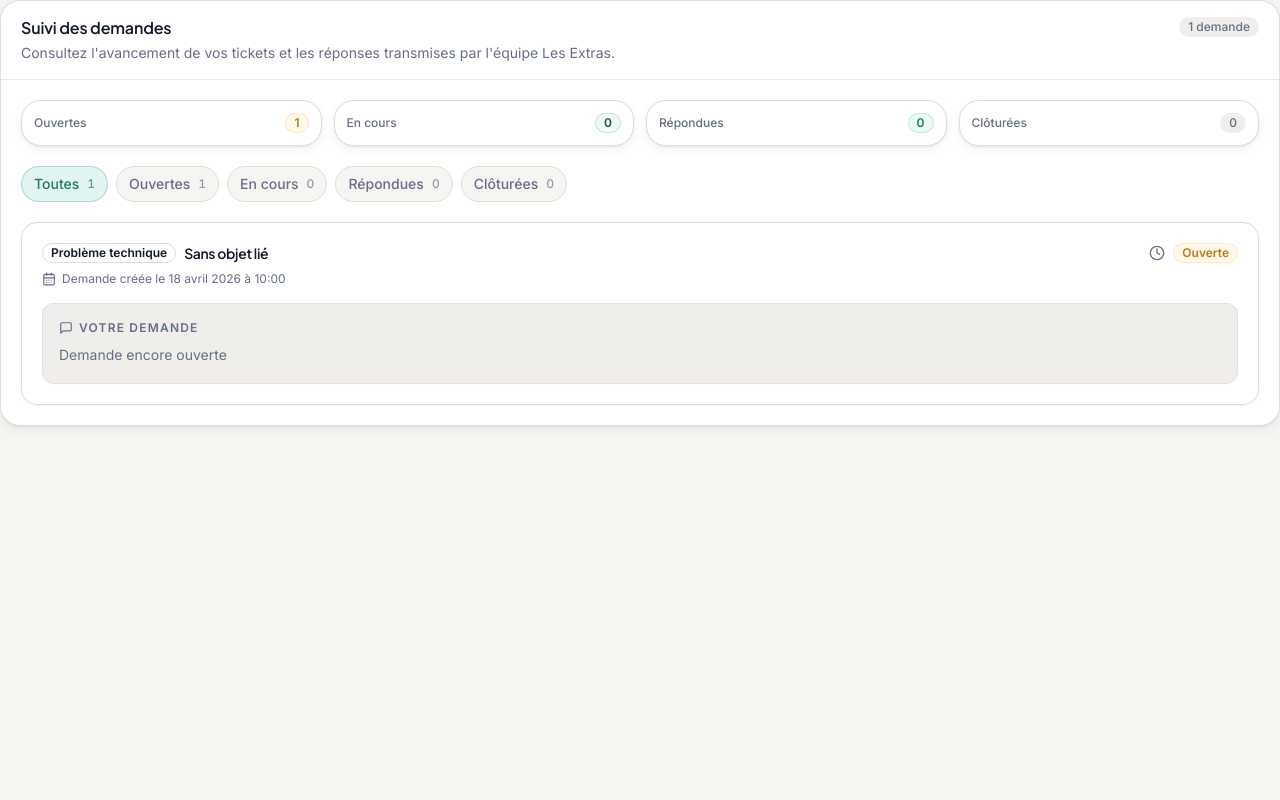
DeskRequestsClient › affiche un état vide quand le filtre ne contient aucune demande
Click the button "Clôturées 0".
click(514, 184)  # box left=461, top=166, right=567, bottom=202
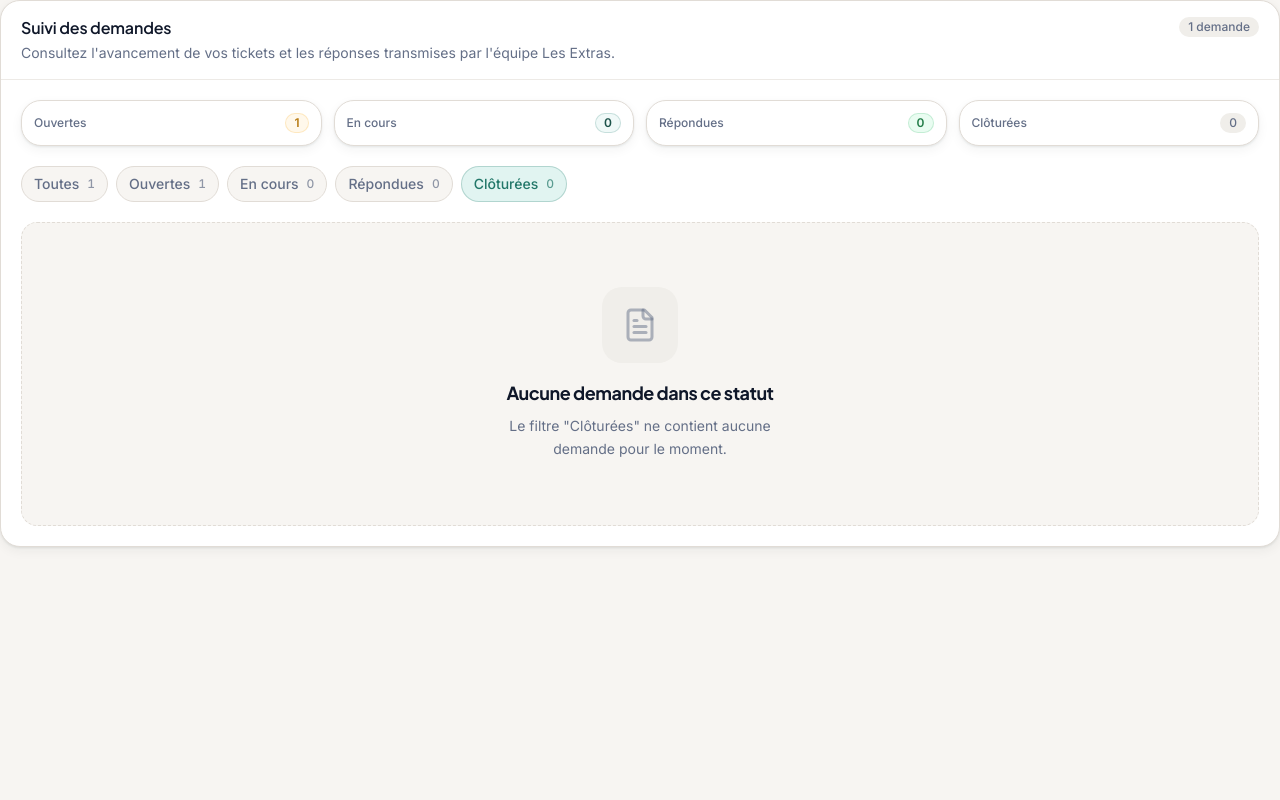
Check: the heading "Aucune demande dans ce statut" is shown, box left=506, top=379, right=774, bottom=407
Check: the text "Demande encore ouverte" is gone
